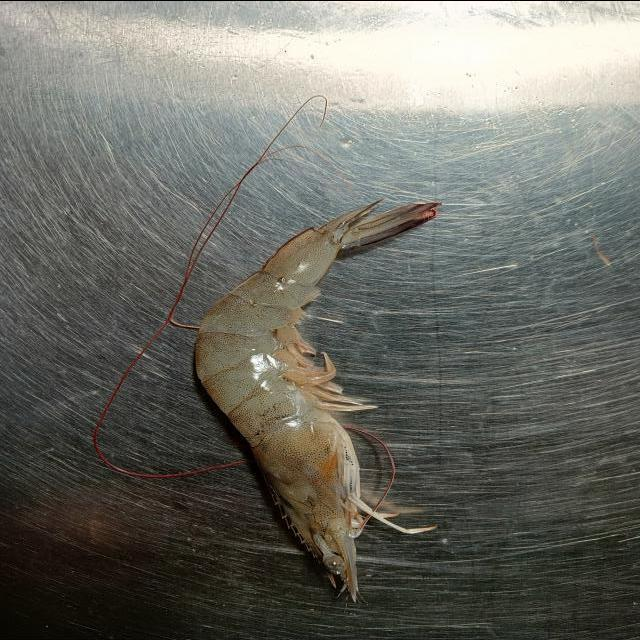shrimp: (196, 202, 440, 600)
